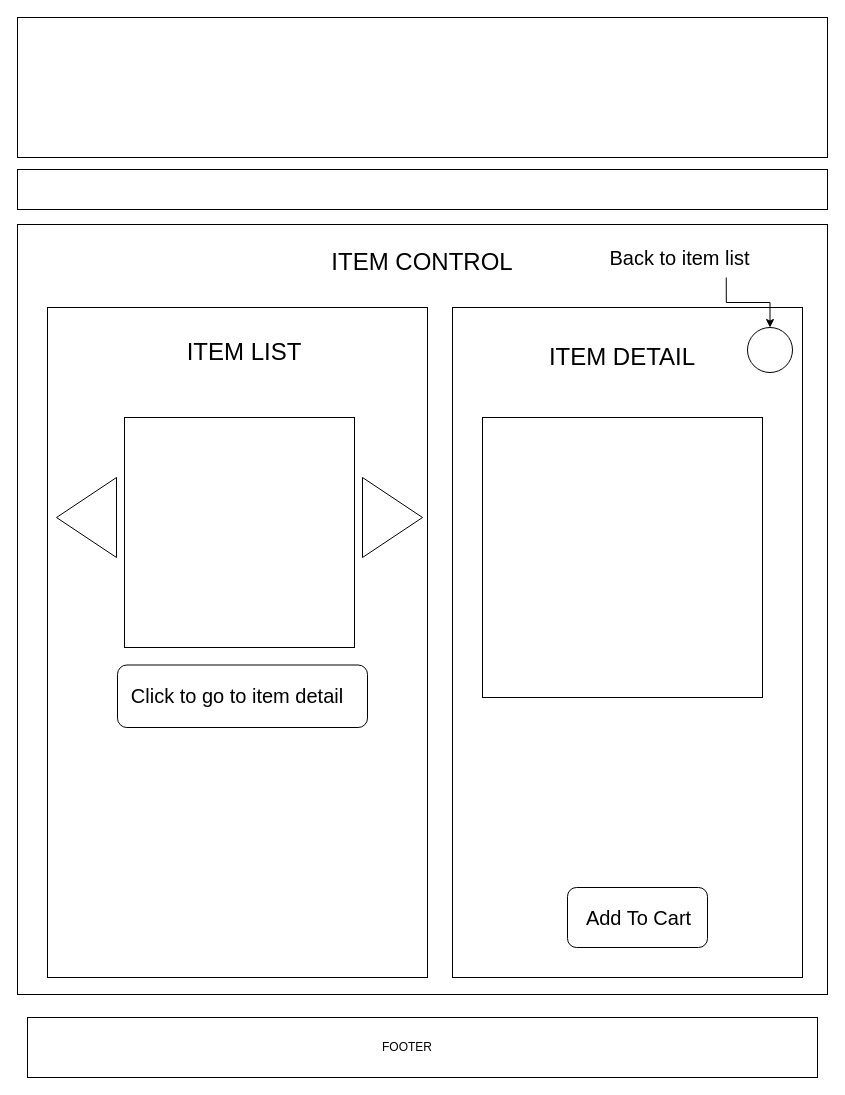
Some shapes in this 845 by 1095 pixel diagram are drawn without their labels. The shapes that lost their labels are listed below. From the top down, each one's box as (x1, y1, x2, y2) in pixels, then its label:
(16, 16, 828, 158): HEADER
(16, 168, 828, 210): NAVBAR
